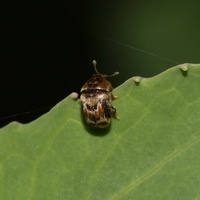insect: (80, 60, 118, 127)
